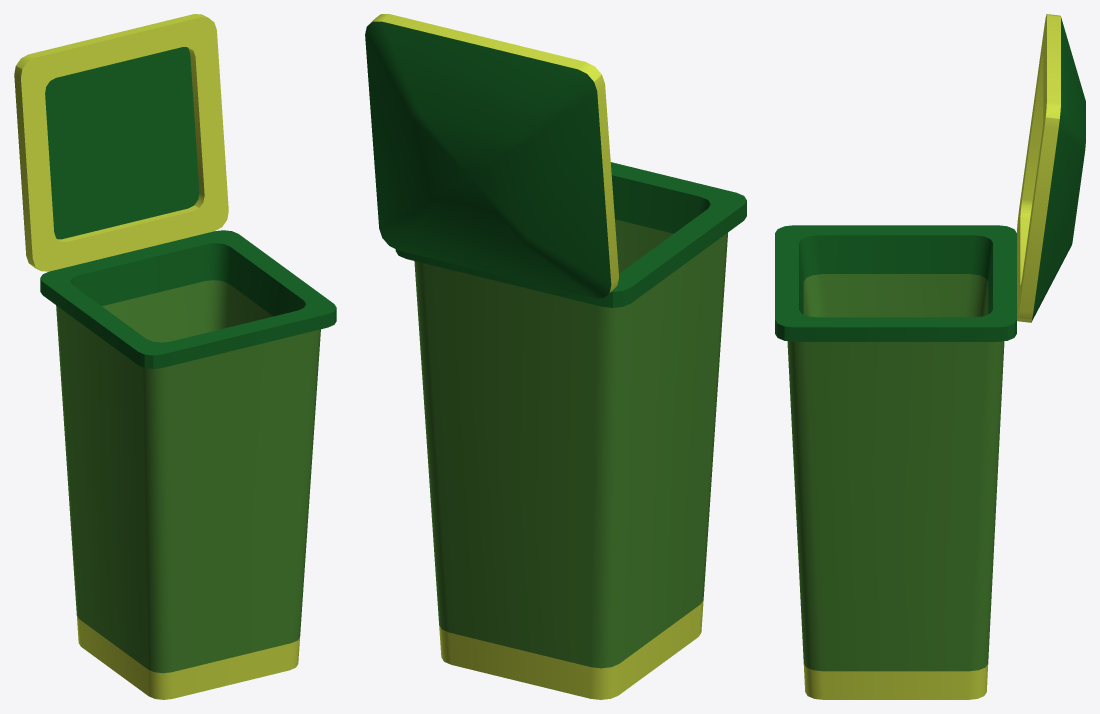
The model's file is SM_Props_Trashcan.fbx.
3 renders of one model, left to right at view 1: azimuth 30°, elevation 25°; view 2: azimuth 150°, elevation 25°; view 3: azimuth 270°, elevation 25°, orthographic. The views are drawn at different scales.
Parts seen in each view (by area): view 1: SM_Props_Trashcan; view 2: SM_Props_Trashcan; view 3: SM_Props_Trashcan.
Part boxes in pixels (x1,y1,x2,y2): SM_Props_Trashcan: [14, 14, 336, 699]; SM_Props_Trashcan: [365, 14, 746, 699]; SM_Props_Trashcan: [775, 14, 1085, 699].
Size of the model in its own units: 0.4432 by 1.22 by 0.5697.
